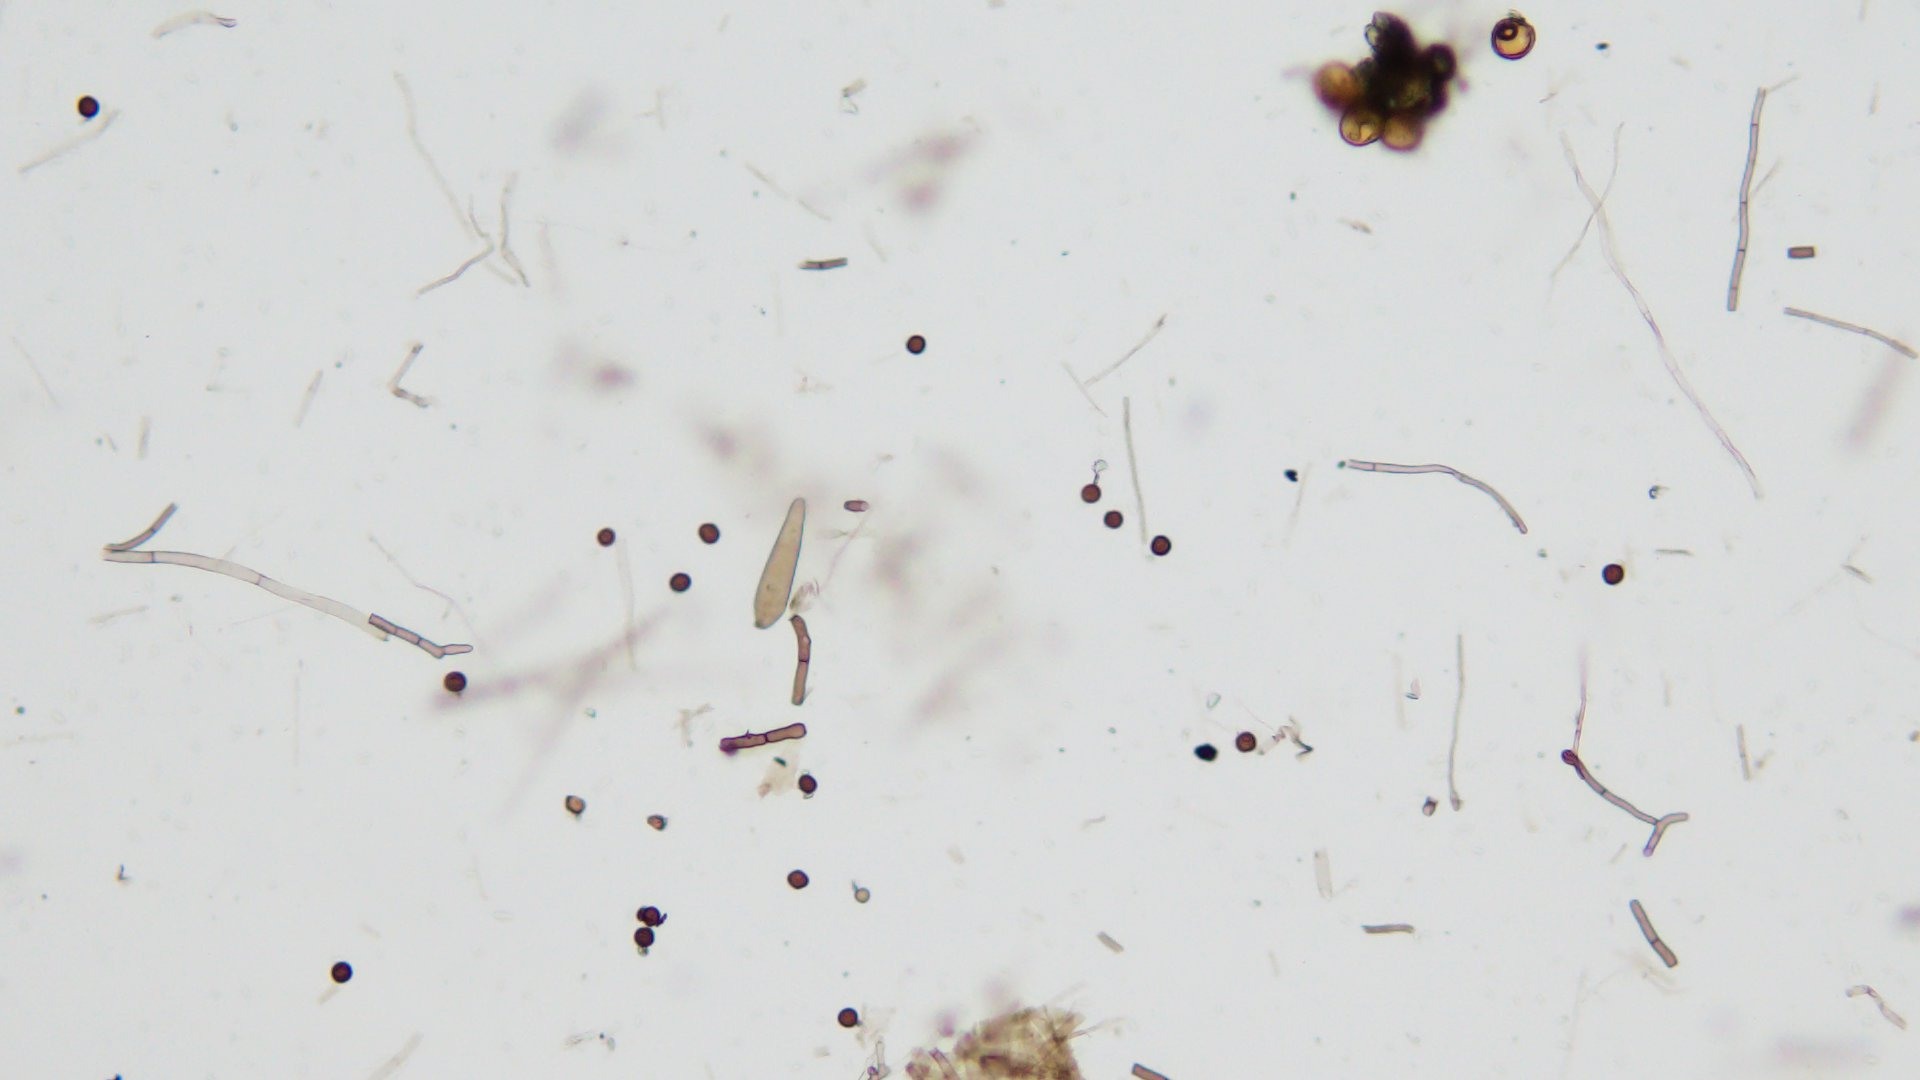dbb_spore: (753, 500, 808, 633)
shs_spore: (1147, 533, 1176, 556), (695, 524, 725, 545), (443, 670, 469, 694), (328, 959, 353, 982), (1601, 563, 1627, 585), (796, 773, 819, 798), (1098, 508, 1124, 530), (76, 98, 100, 120), (906, 334, 928, 357), (786, 869, 810, 890), (1083, 481, 1102, 506), (669, 572, 691, 593), (640, 903, 665, 922), (634, 926, 655, 947), (1234, 733, 1257, 752), (837, 1009, 860, 1026), (597, 527, 616, 545)
xb_spore: (1338, 105, 1389, 148), (1491, 17, 1535, 65), (1378, 109, 1423, 152)
